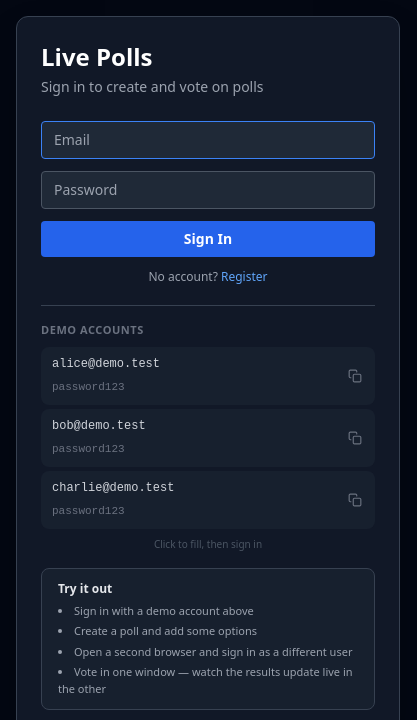
Scenario: AuthForm › clicking a demo account fills email and password fields
Click the text "alice@demo.test" at (106,364), box [52, 356, 160, 370]
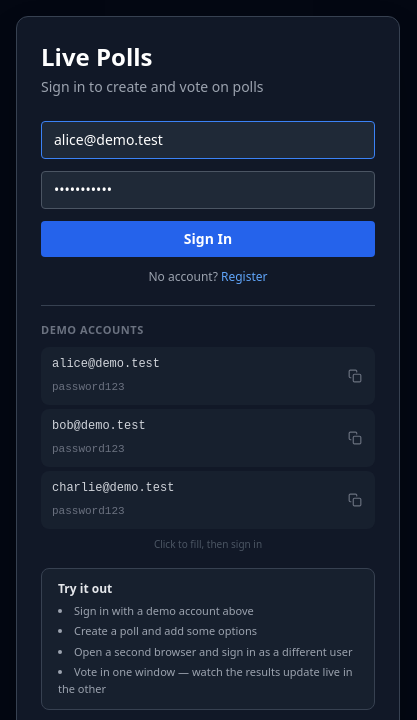
Now the field with placeholder "Email" holds "alice@demo.test", box [41, 121, 375, 159]
Now the password field with placeholder "Password" holds "password123", box [41, 171, 375, 209]
